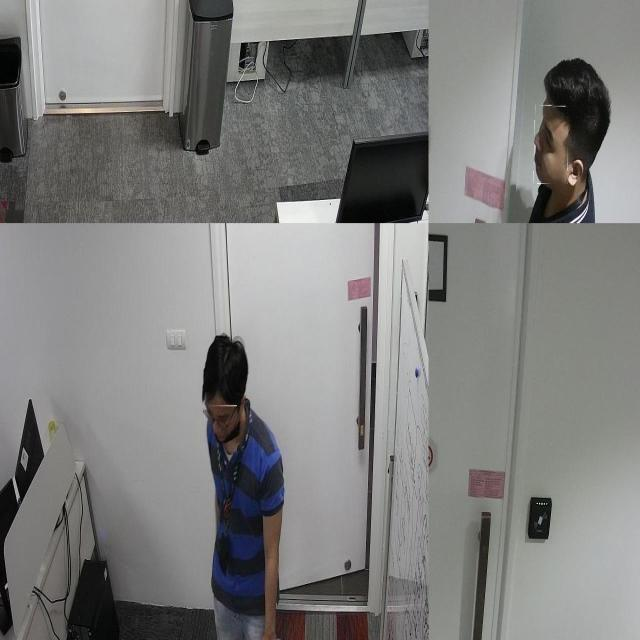hairnet: (204, 406, 242, 446)
